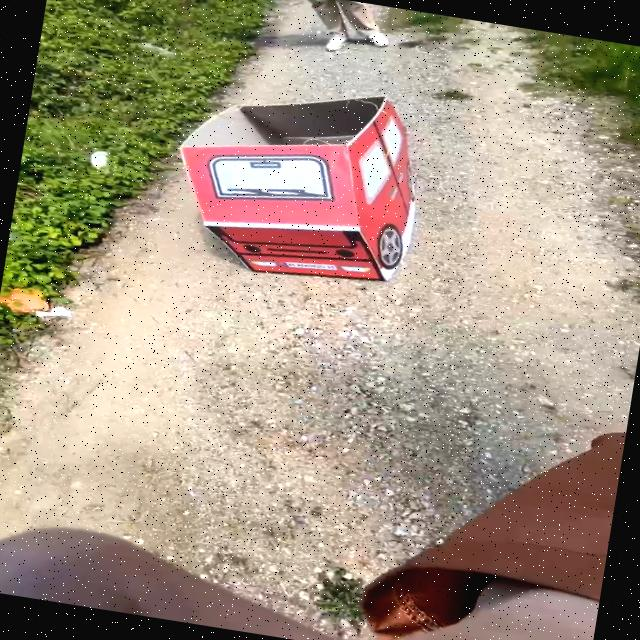red_car: (136, 57, 480, 338)
